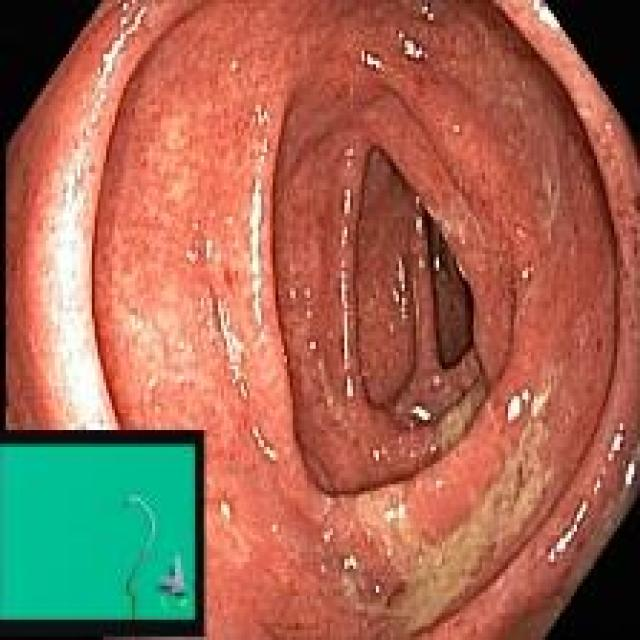ulcerative-colitis-grade-1: (8, 0, 640, 637)
